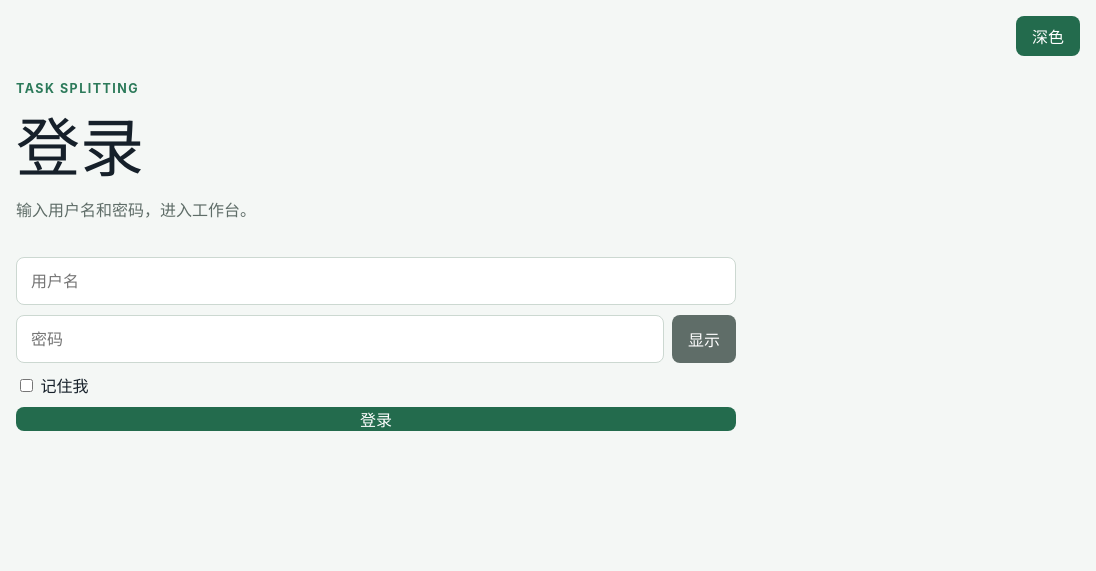
TodoBoard relative time (T-UI-02) › labels a just-created todo as 刚刚
The width and height of the screenshot is (1096, 571).
Type "alice" into the field with placeholder "用户名" at [376, 281], box [16, 257, 736, 305]
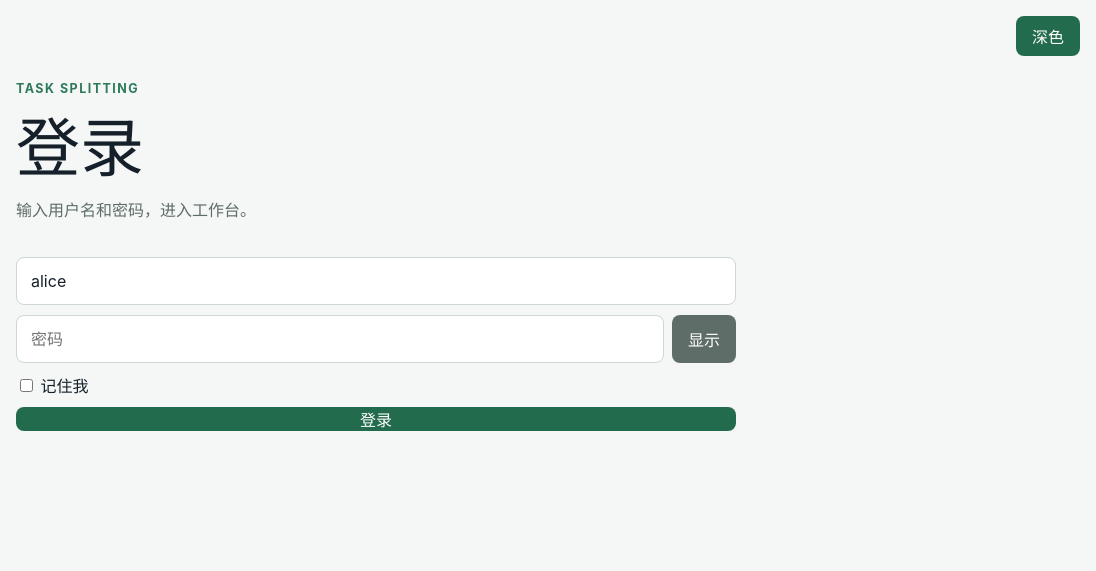
Type "secret" into the password field with placeholder "密码" at [340, 339], box [16, 315, 664, 363]
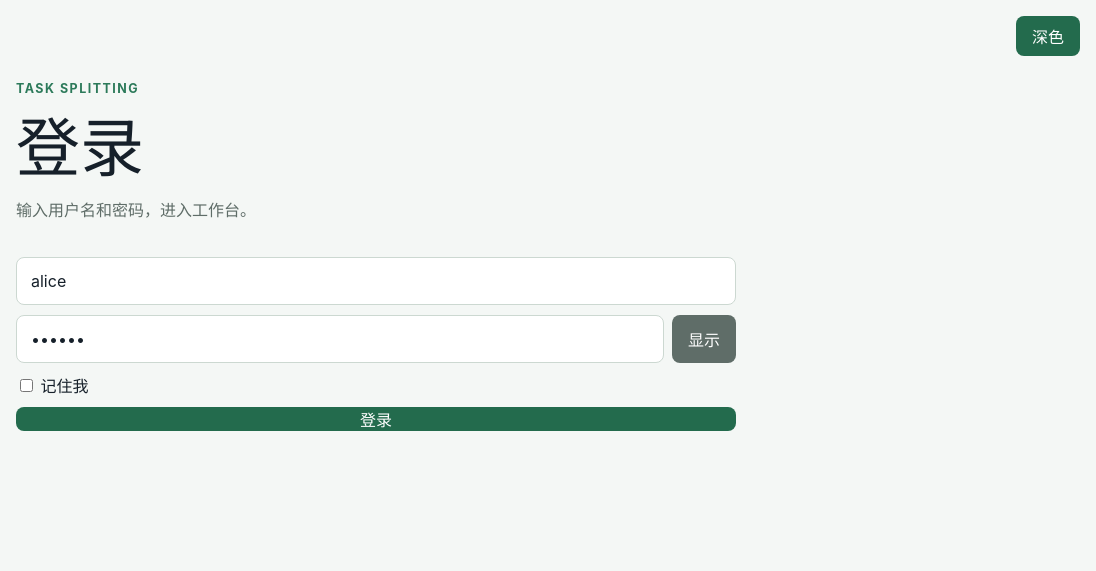
Submit the form from the button "登录", box [16, 407, 736, 431]
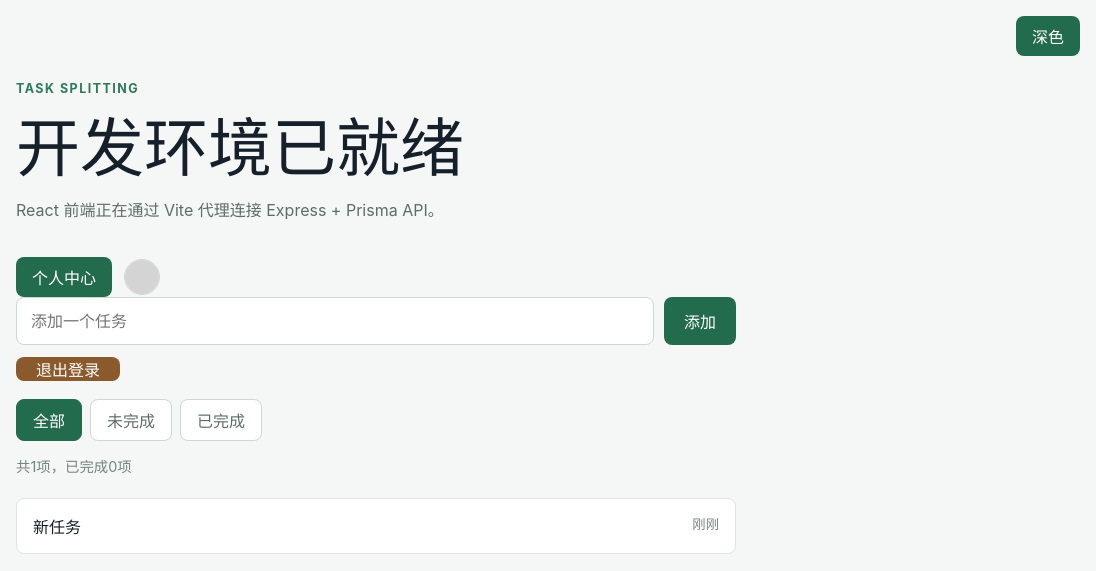
Expected: the text "刚刚" is shown, [692, 514, 719, 538]
